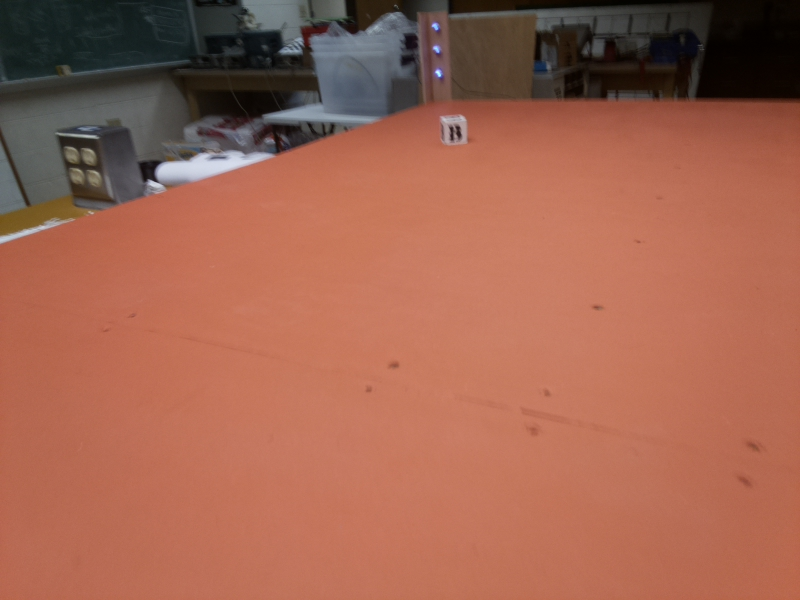blockB: (441, 113, 470, 146)
corner: (416, 11, 454, 106)
